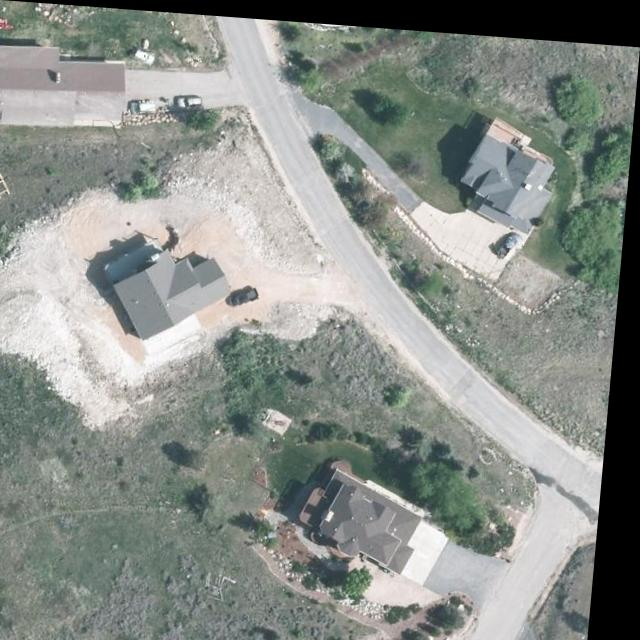vehicle: (496, 223, 529, 252), (234, 282, 267, 309), (130, 46, 158, 62), (177, 92, 205, 106), (131, 98, 158, 112)
